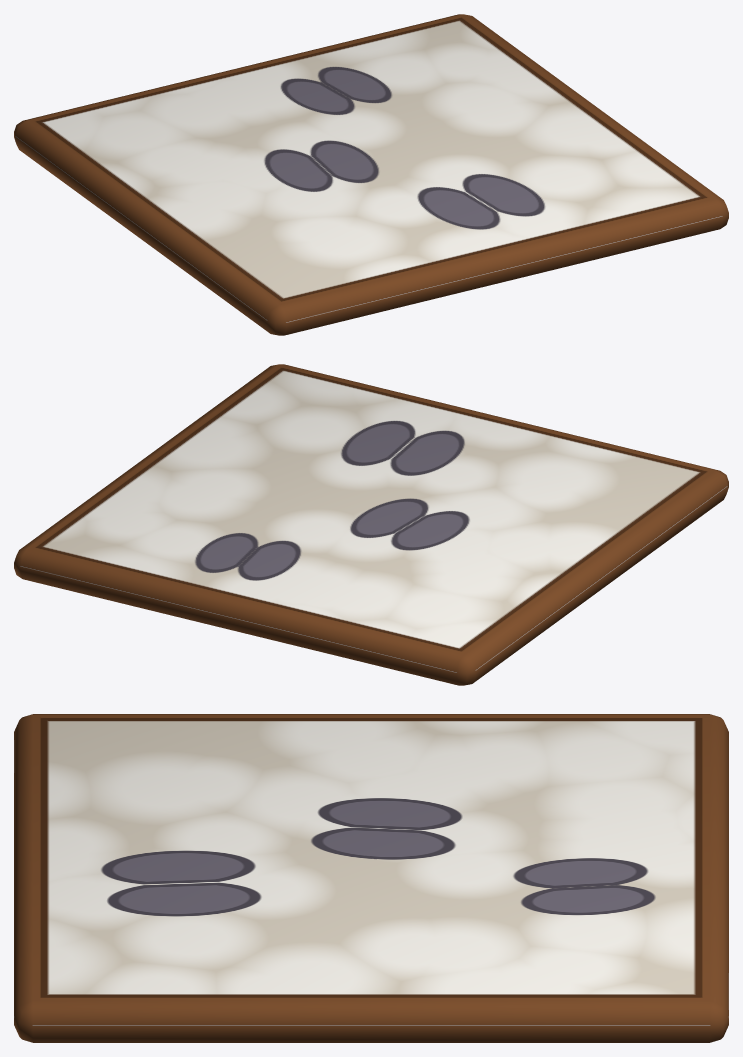
The model's file is SheepGate_Tile.fbx.
The picture shows the model from 3 angles, top to bottom: view 1: azimuth 30°, elevation 25°; view 2: azimuth 150°, elevation 25°; view 3: azimuth 270°, elevation 25°; orthographic projection. The views are drawn at different scales.
Visible parts, largest first — view 1: SheepGate_Tile; view 2: SheepGate_Tile; view 3: SheepGate_Tile.
Boxes of the visible parts, x1,y1,x2,y2 form: SheepGate_Tile: [14, 14, 728, 335]; SheepGate_Tile: [14, 364, 728, 685]; SheepGate_Tile: [14, 714, 728, 1042].
Bounding box in the file's own units: 0.94 × 0.06 × 0.94.
1 material, 1 textured.
